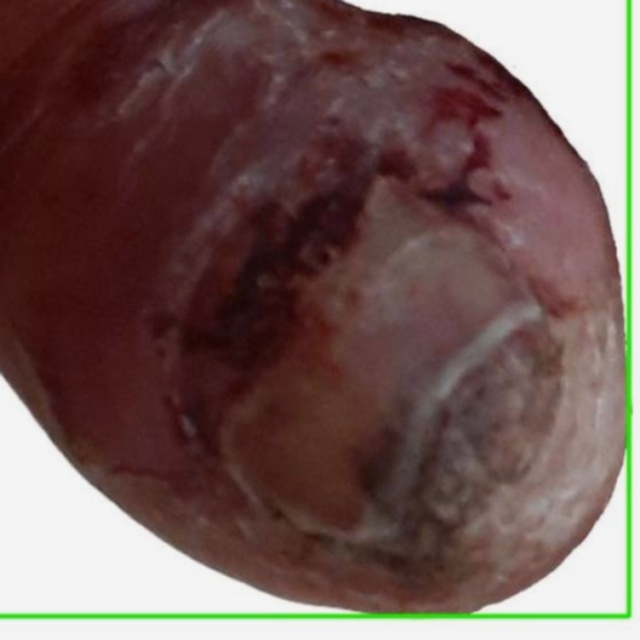Contact Dermatitis: (0, 0, 629, 616)
